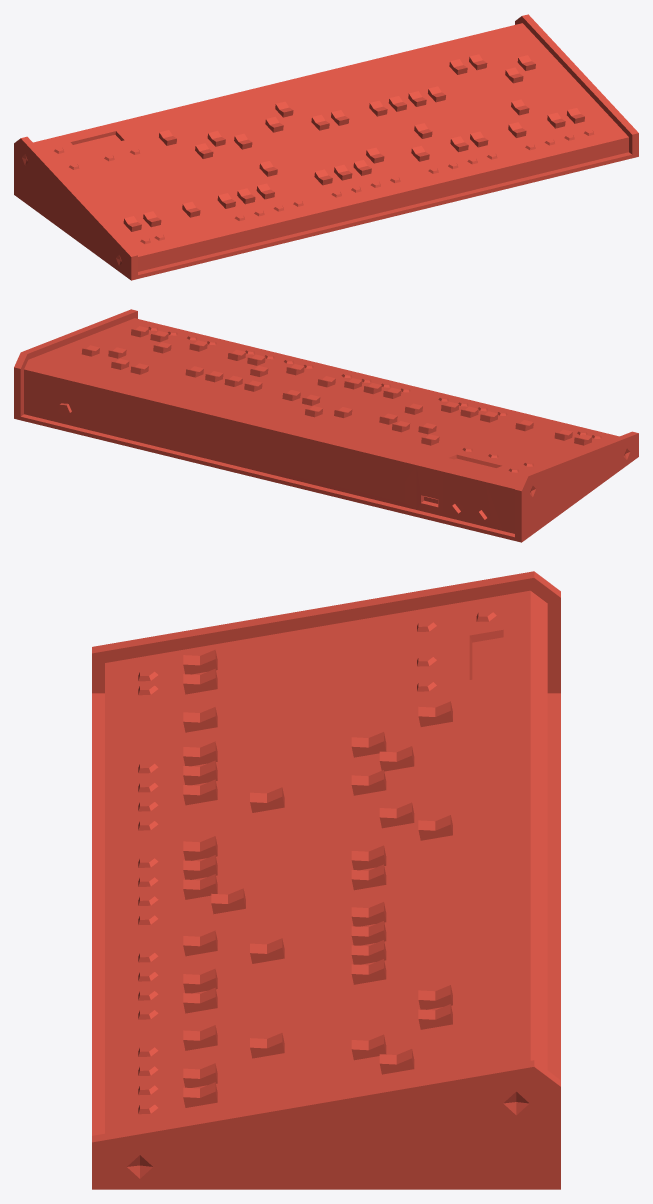
Rendered from SM_Controller_Light.fbx.
The picture shows the model from 3 angles, top to bottom: view 1: azimuth 30°, elevation 25°; view 2: azimuth 150°, elevation 25°; view 3: azimuth 270°, elevation 25°; orthographic projection. The views are drawn at different scales.
Visible parts, largest first — view 1: SM_Controller_Light; view 2: SM_Controller_Light; view 3: SM_Controller_Light.
Part boxes in pixels (bbox=[...]): SM_Controller_Light: bbox=[14, 14, 638, 280]; SM_Controller_Light: bbox=[14, 309, 638, 542]; SM_Controller_Light: bbox=[92, 571, 560, 1189].
Bounding box in the file's own units: 26 × 65 × 7.52.
